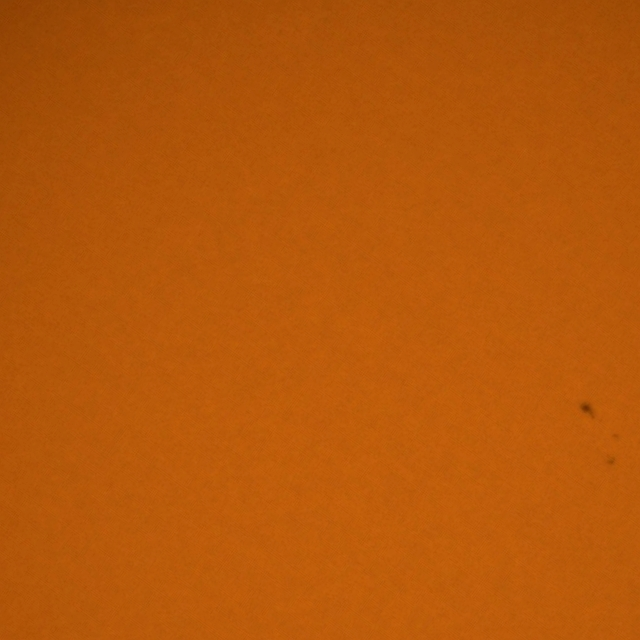sunspot: (578, 400, 596, 422), (604, 454, 616, 468)
